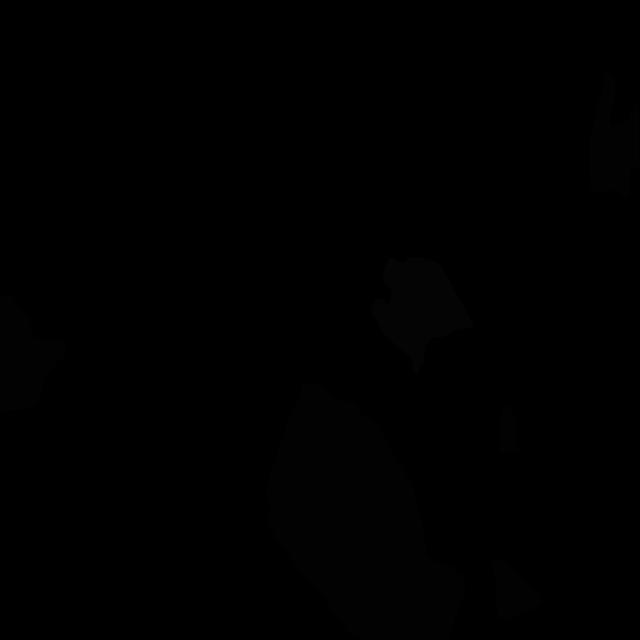cardboard: (266, 383, 466, 640), (0, 292, 67, 414), (589, 74, 640, 198), (490, 557, 542, 621), (499, 404, 519, 453)
soft_plastic: (371, 256, 474, 375)
